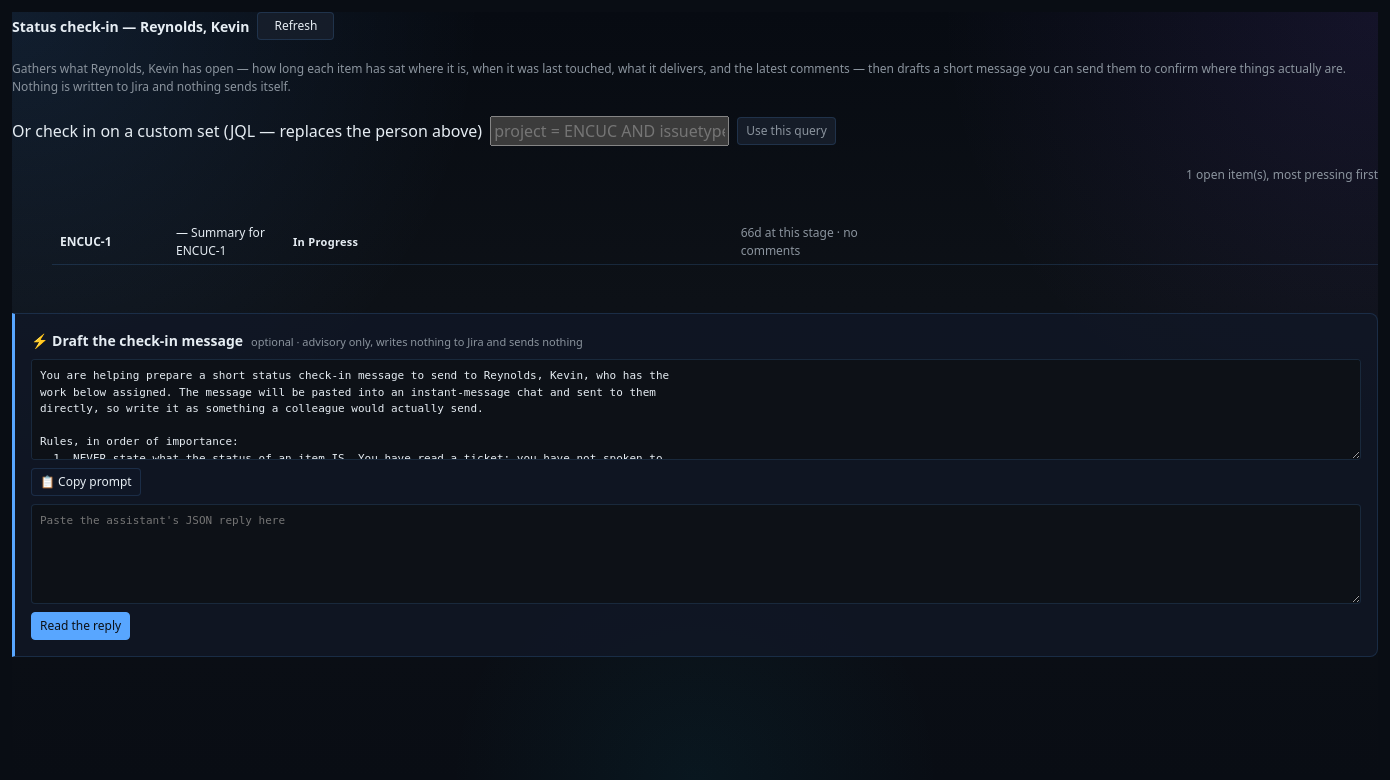
Test case: CheckInTab custom query › says which query the figures describe, not what is typed in the box
Expected: the list named "Work to check in on" is shown, [12,220,1378,265]
Step 1. Type "issuetype = Defect" into the field labelled "custom set" → (610, 131), box [490,116,729,146]
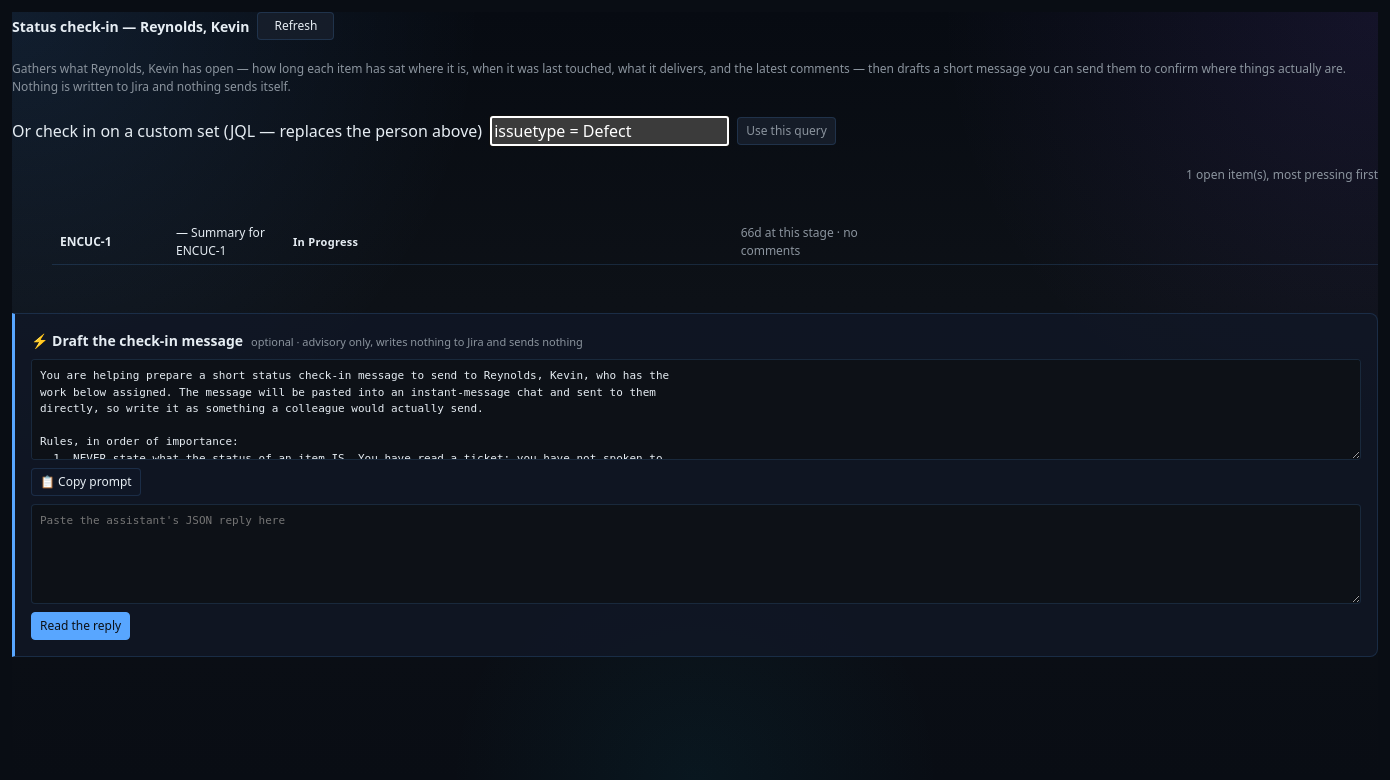
Step 2. Click the button "Use this query" → (787, 131), box [737,117,836,145]
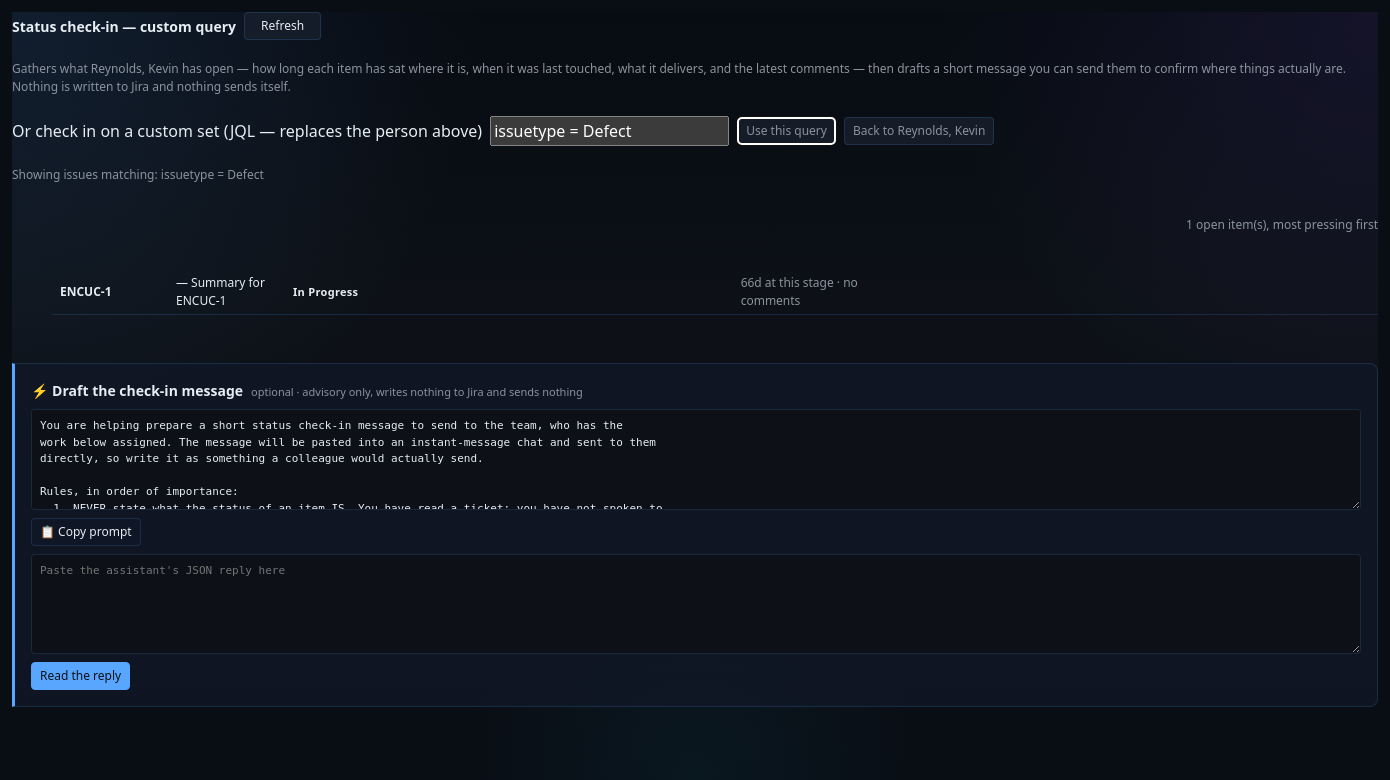
Now the text "Showing issues matching: issuetype = Defect" is shown, box [12,166,264,183]
